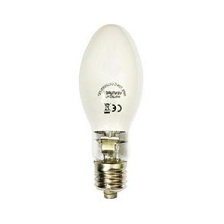light_bulb: (73, 17, 147, 205)
